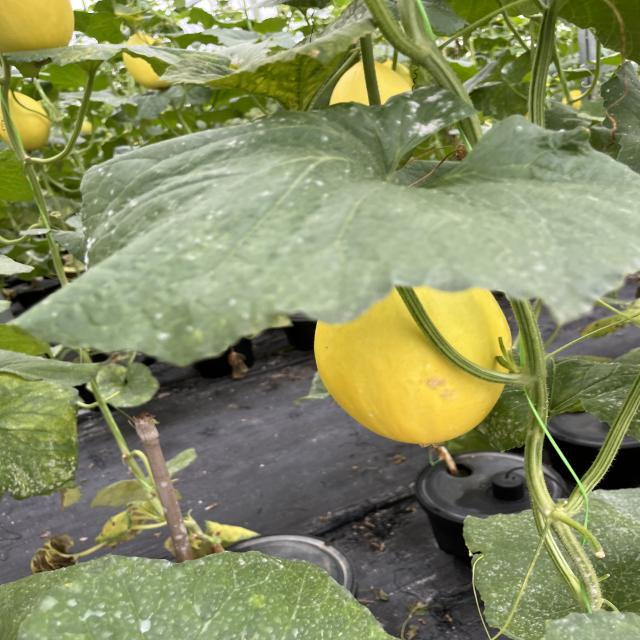downy mildew: (157, 0, 390, 111), (0, 375, 85, 500)
powdery mildew: (4, 88, 640, 364), (0, 548, 410, 640), (459, 493, 640, 640), (471, 348, 640, 458)
